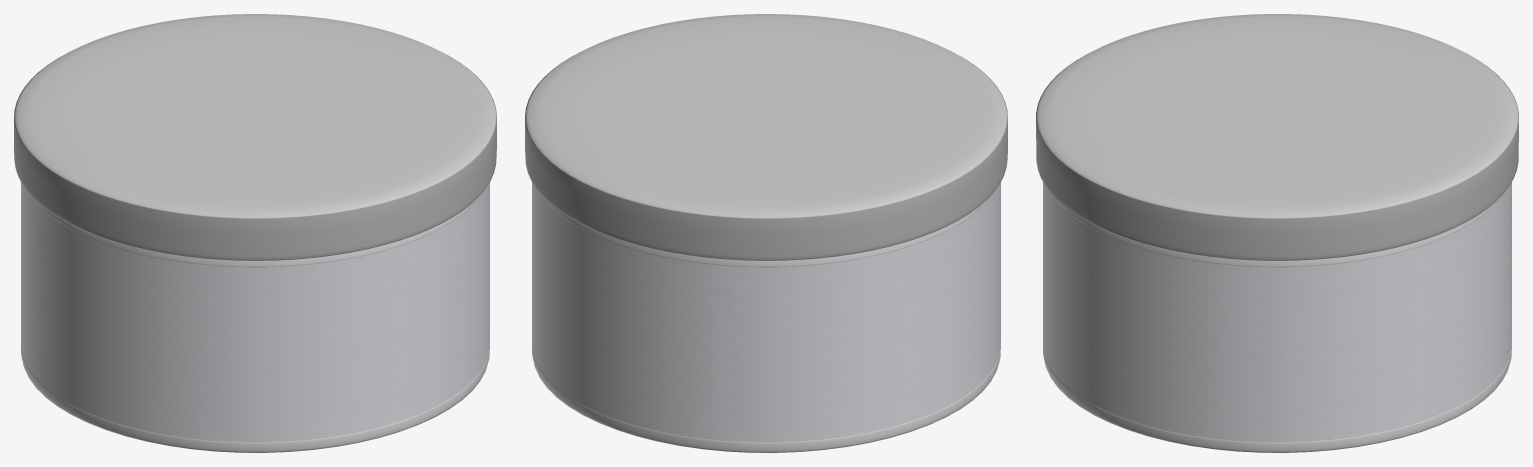
File: B07DBHC39X.glb
The picture shows the model from 3 angles, left to right: view 1: azimuth 30°, elevation 25°; view 2: azimuth 150°, elevation 25°; view 3: azimuth 270°, elevation 25°; orthographic projection.
Parts seen in each view (by area): view 1: RootNode; view 2: RootNode; view 3: RootNode.
Part boxes in pixels (x1,y1,x2,y2): RootNode: (14,14,496,452); RootNode: (525,14,1007,452); RootNode: (1036,14,1518,452).
Size of the model in its own units: 0.3932 by 0.2287 by 0.3932.
Materials: 1 (1 with a texture image).
